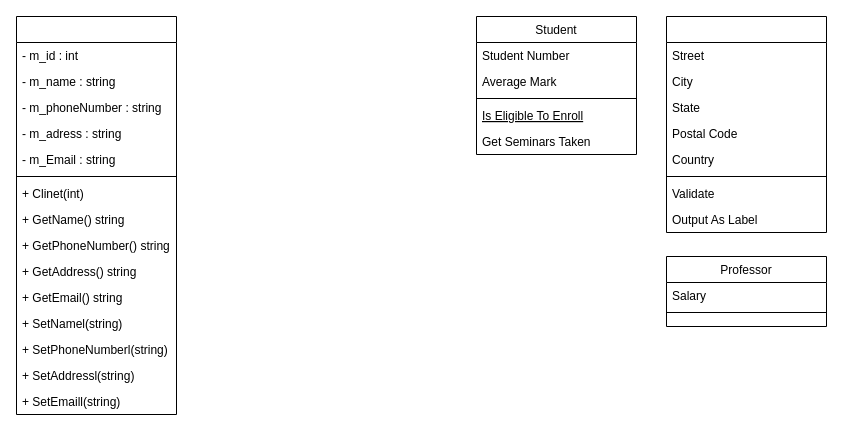
Some shapes in this 843 by 431 pixel diagram are drawn without their labels. The box of each missing label's shape, as (x1, y1, x2, y2) in pixels:
Address: (666, 16, 826, 232)
Client: (16, 16, 176, 414)
